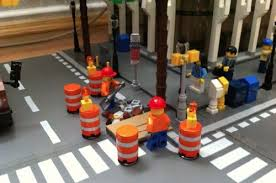barrel: (114, 126, 139, 166), (79, 104, 101, 138), (180, 122, 199, 159), (64, 84, 79, 113), (88, 72, 102, 94)
